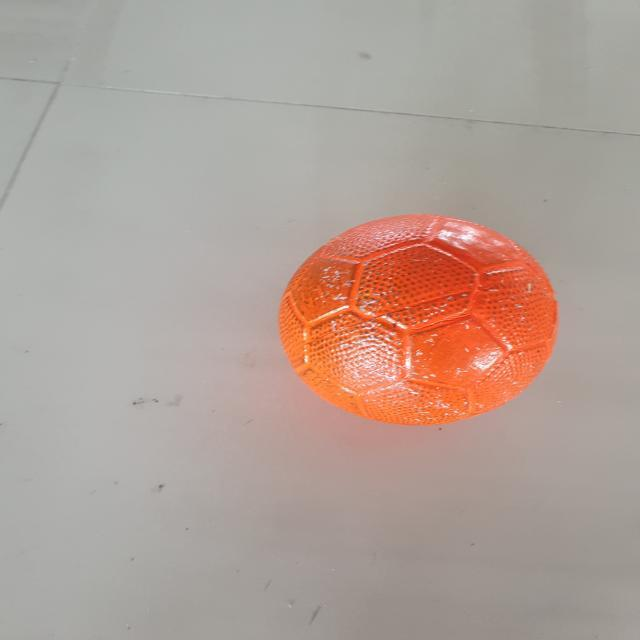bola: (263, 200, 566, 436)
